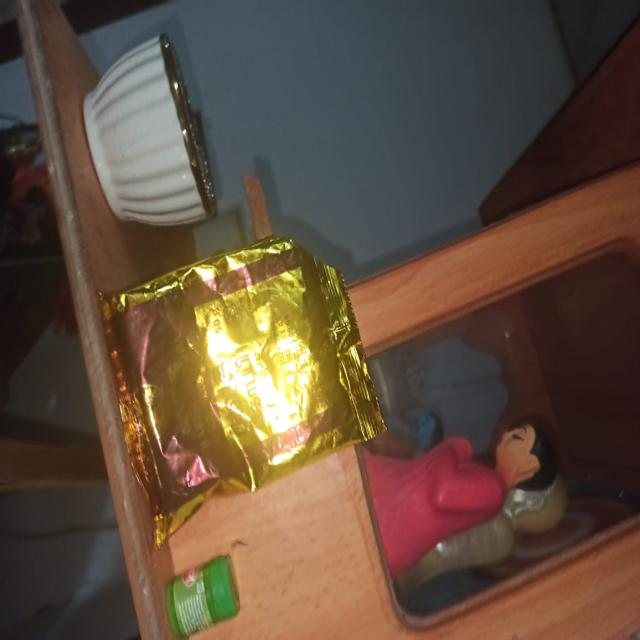Harischandra Coffee: (105, 273, 457, 498)
